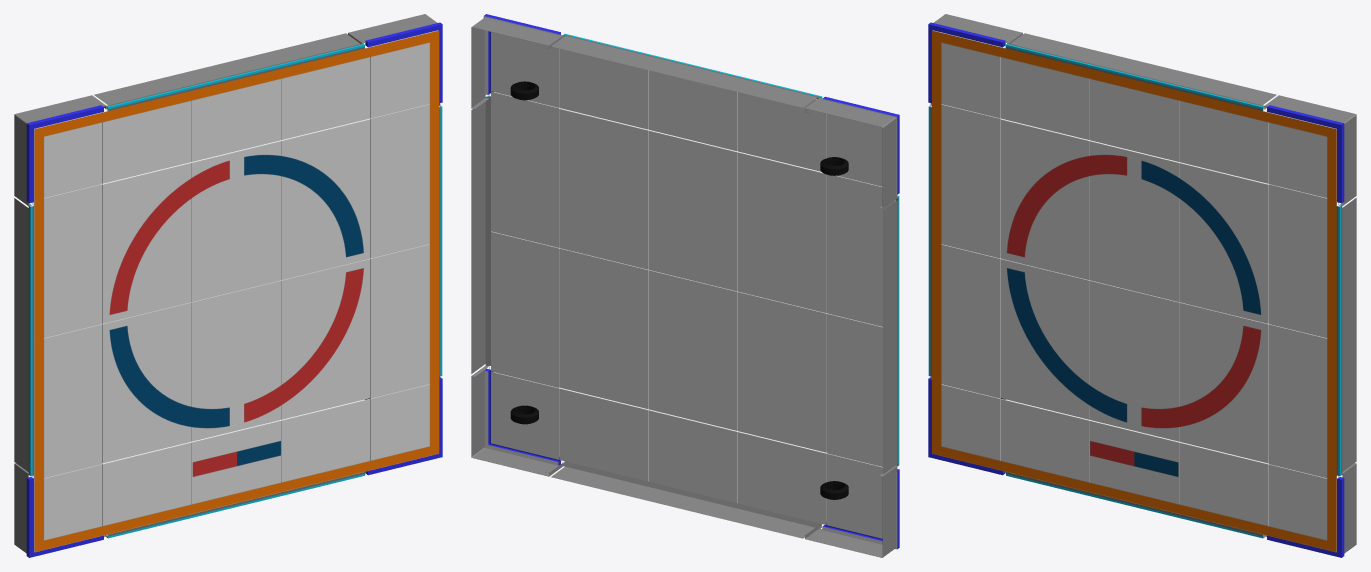
Rendered from palette.glb.
3 renders of one model, left to right at view 1: azimuth 30°, elevation 25°; view 2: azimuth 150°, elevation 25°; view 3: azimuth 330°, elevation 25°, orthographic.
Visible parts, largest first — view 1: palette_L; view 2: palette_L; view 3: palette_L.
Part boxes in pixels (bbox=[...]): palette_L: bbox=[14, 14, 442, 557]; palette_L: bbox=[471, 14, 899, 557]; palette_L: bbox=[928, 14, 1356, 557].
Bounding box in the file's own units: 4.5 × 4.5 × 0.4019.
Materials: 9 (3 with a texture image).
